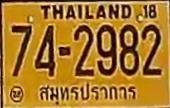2: (74, 24, 93, 76), (141, 24, 160, 74)
4: (34, 24, 54, 76)
7: (11, 24, 31, 76)
8: (119, 24, 138, 74)
9: (96, 24, 116, 75), (96, 24, 116, 74)
SPK: (35, 81, 140, 101)
